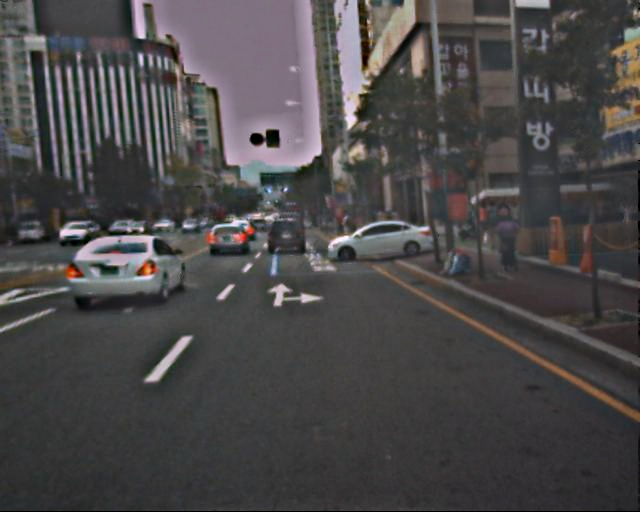person: (495, 212, 521, 276), (483, 198, 507, 256)
